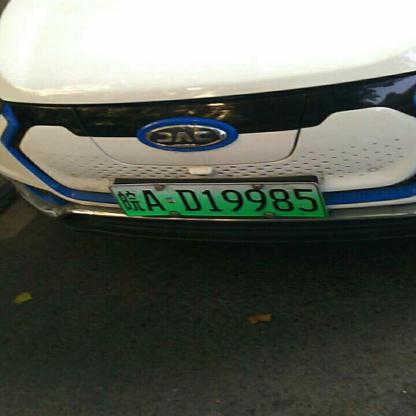lp: (108, 184, 328, 217)
